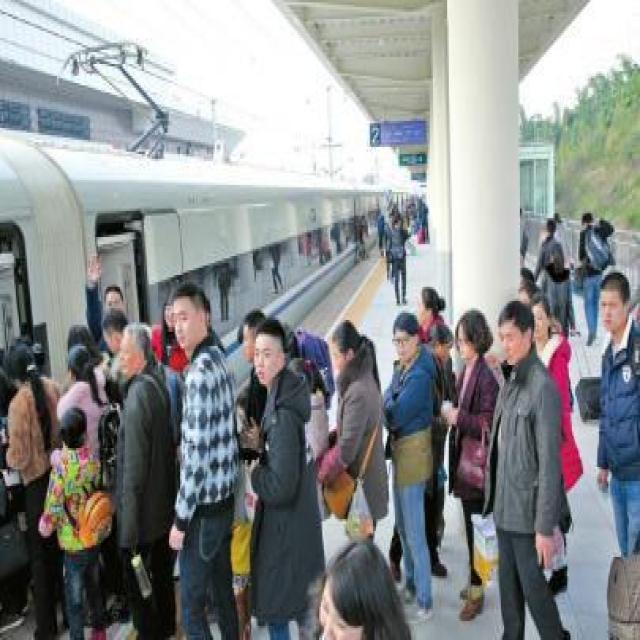non-fight: (477, 292, 583, 638), (237, 310, 329, 638), (373, 304, 452, 616), (103, 322, 178, 638), (583, 266, 639, 638), (0, 334, 68, 638)
